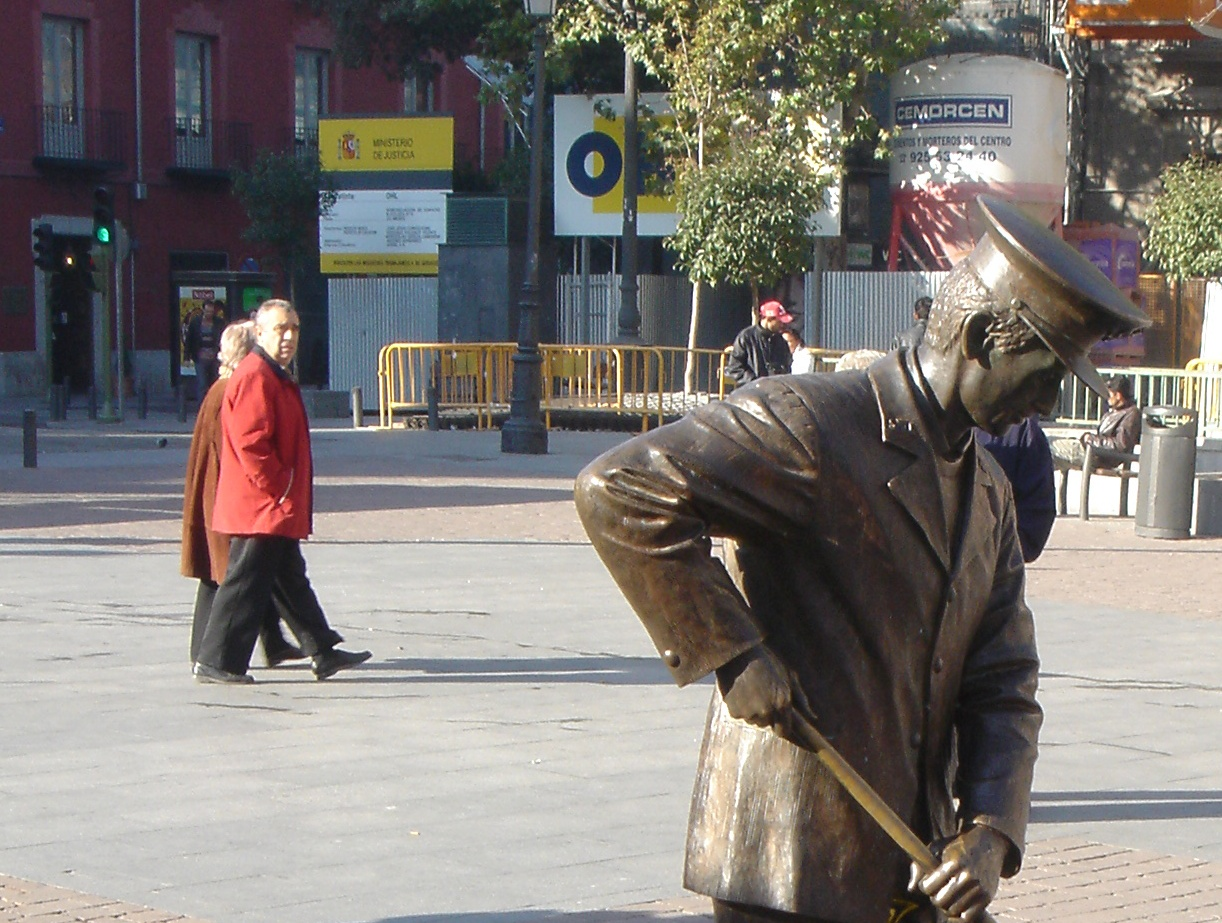person: (200, 292, 335, 687)
